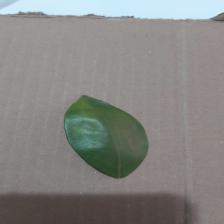greening: (63, 94, 98, 123)
